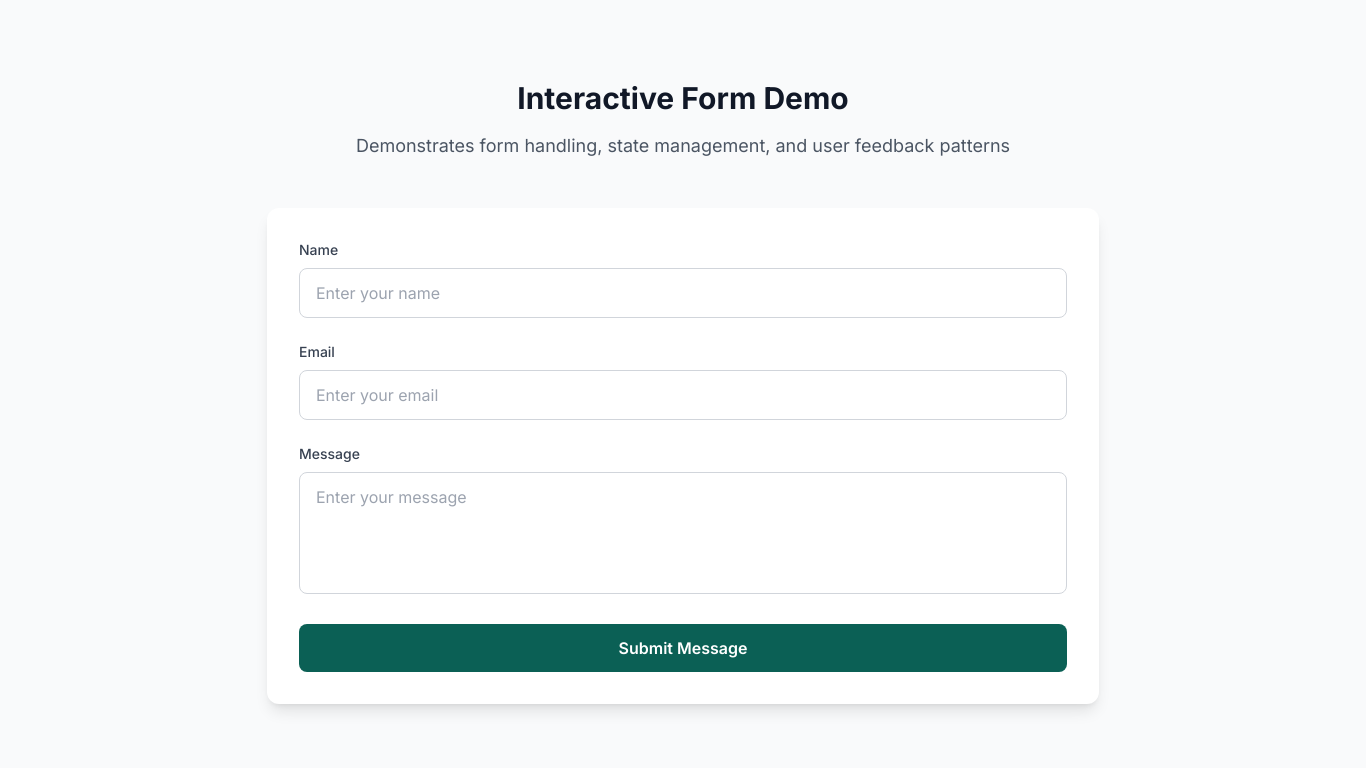
Test: InteractiveDemo › shows success message after form submission
Note: Fill form
Type "John Doe" into the field labelled "Name". click: (683, 293)
box: [299,268,1067,318]
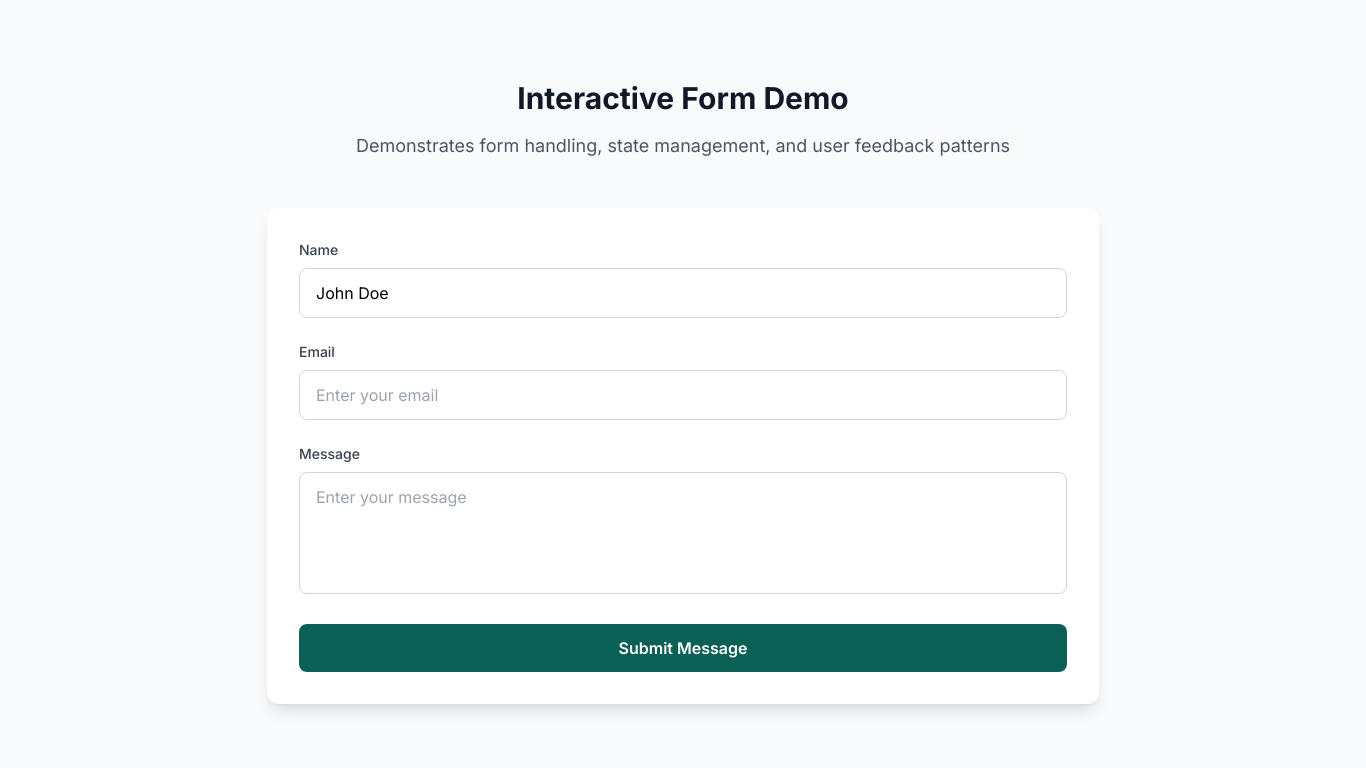
Type "john@example.com" into the field labelled "Email". click: (683, 395)
box: [299,370,1067,420]
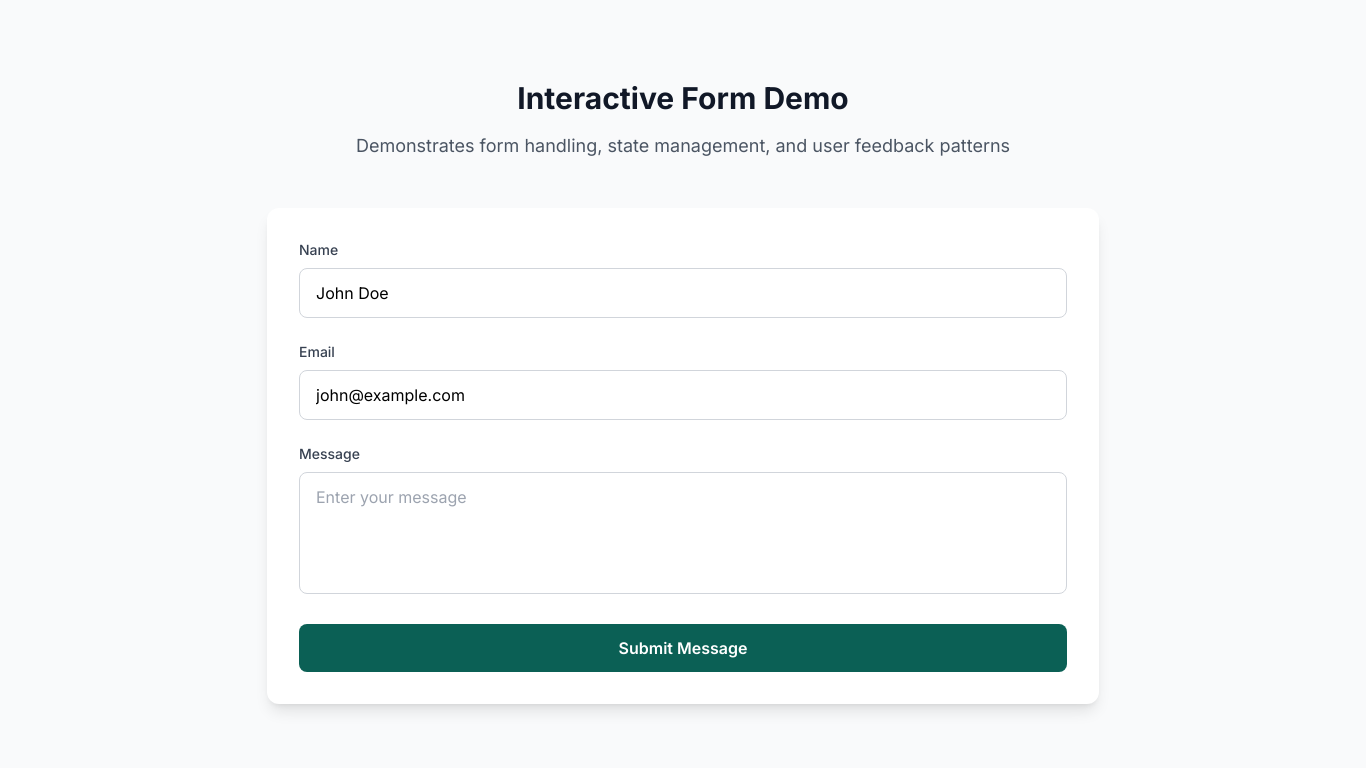
Type "Test message" into the text box labelled "Message". click: (683, 533)
box: [299,472,1067,594]
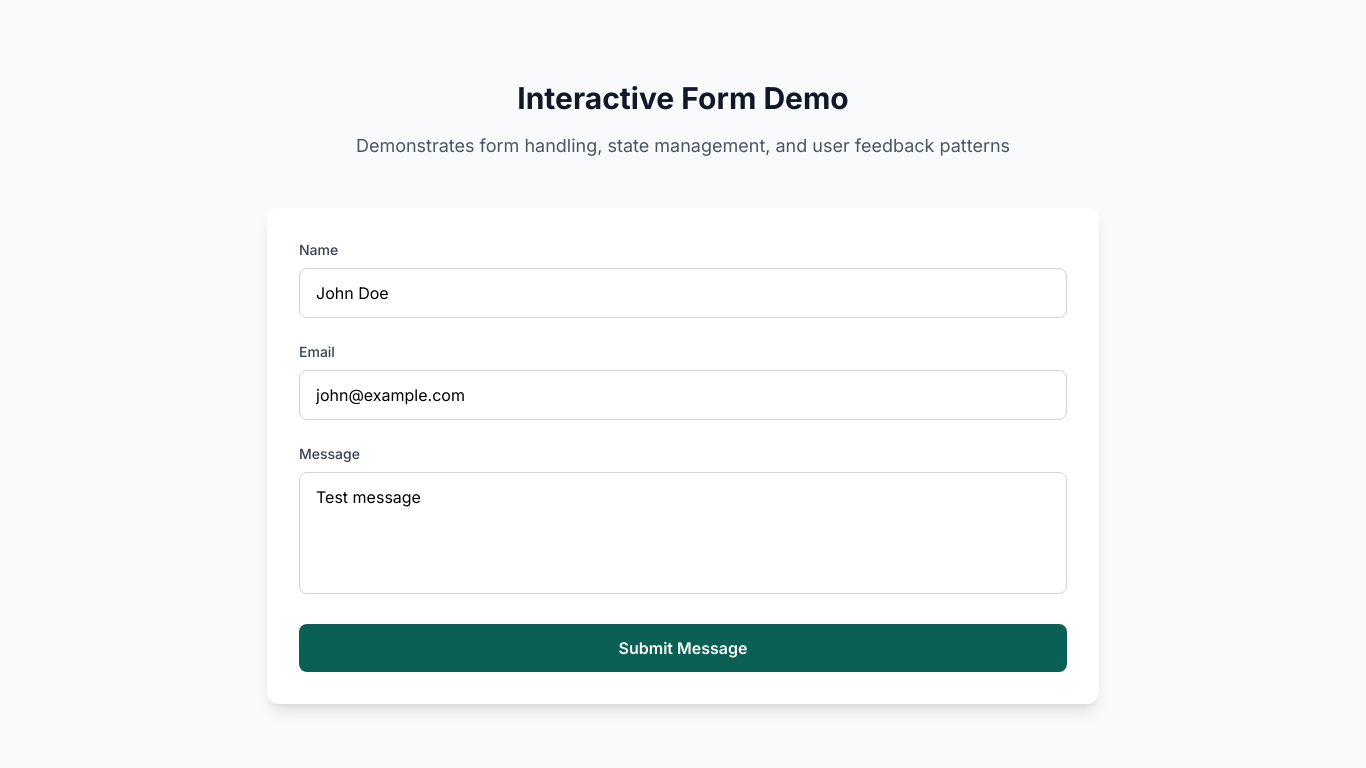
Note: Submit form
Click the button "Submit Message". click: (683, 648)
box: [299,624,1067,672]
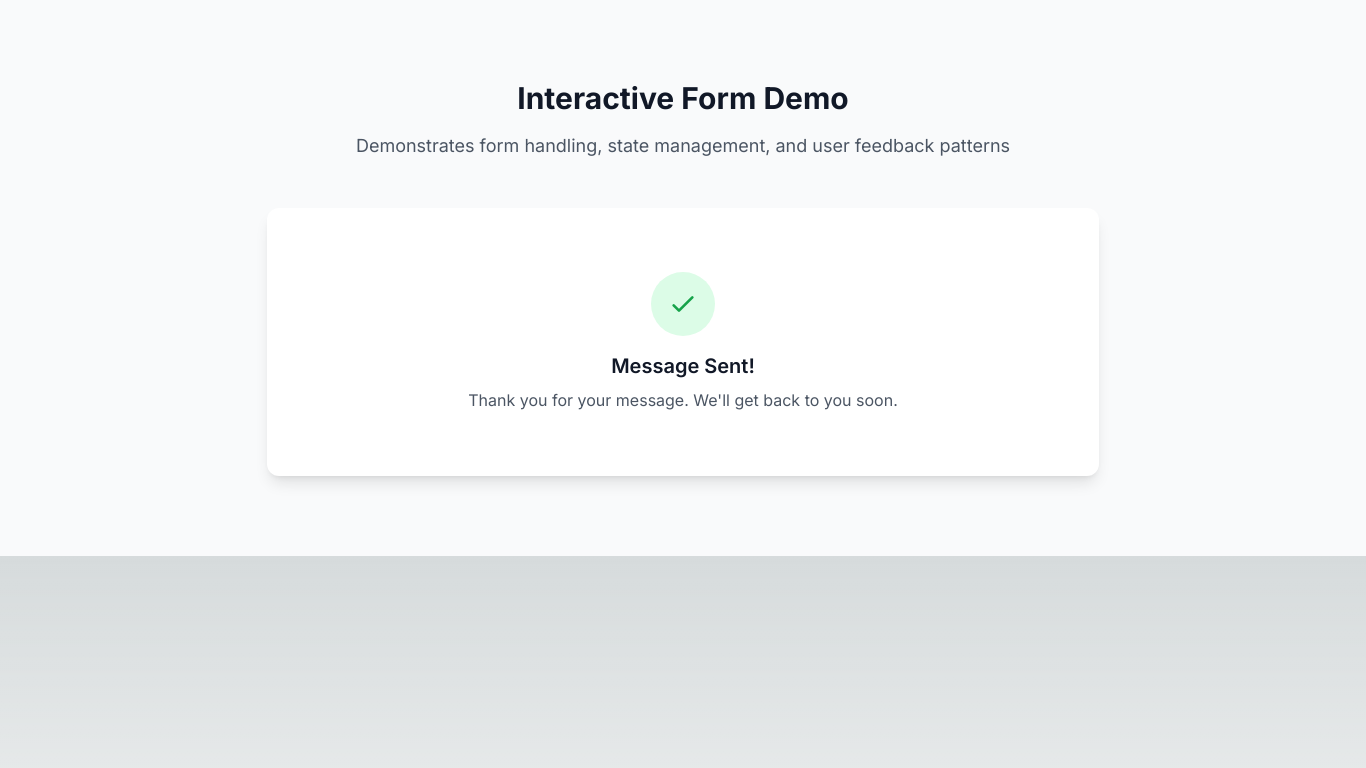
Expected: the heading "Message Sent!" is shown, [611,354,755,378]
Expected: the text "Thank you for your message. We'll get back to you soon." is shown, [468,390,898,410]
